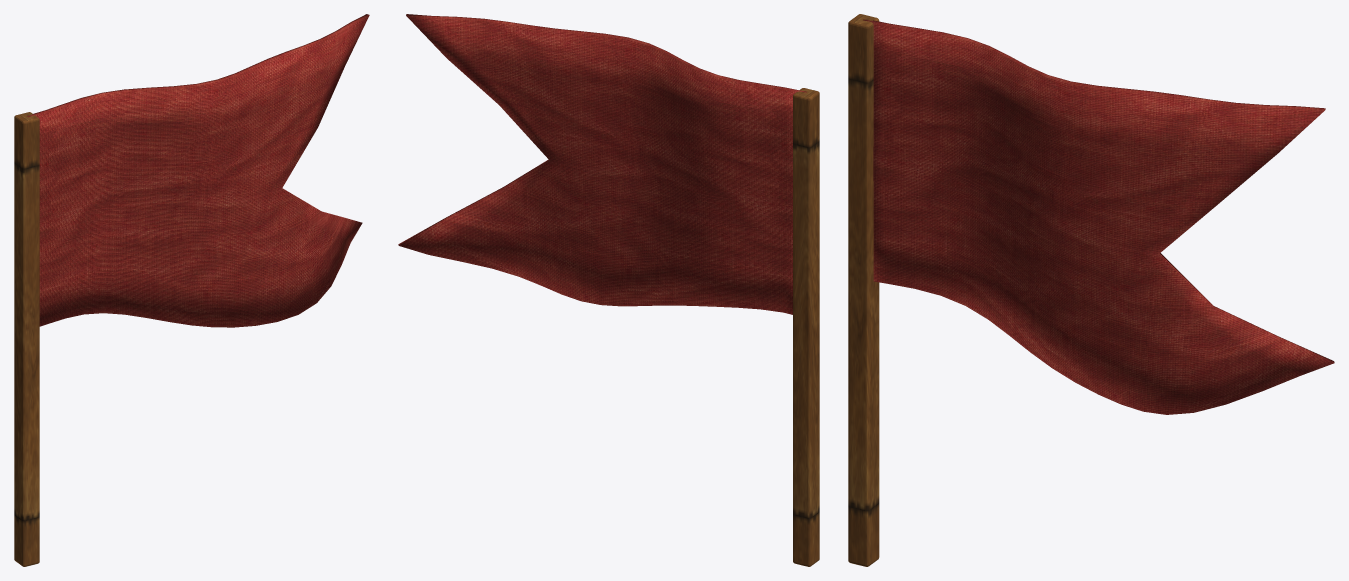
The picture shows the model from 3 angles, left to right: view 1: azimuth 30°, elevation 25°; view 2: azimuth 150°, elevation 25°; view 3: azimuth 330°, elevation 25°; orthographic projection. The views are drawn at different scales.
Visible parts, largest first — view 1: FlagCloth, FlagPole; view 2: FlagCloth, FlagPole; view 3: FlagCloth, FlagPole.
Part boxes in pixels (left/top/right/bottom): FlagCloth: left=27, top=14, right=369, bottom=327; FlagPole: left=14, top=112, right=39, bottom=566; FlagCloth: left=398, top=14, right=806, bottom=314; FlagPole: left=793, top=88, right=819, bottom=566; FlagCloth: left=863, top=19, right=1334, bottom=414; FlagPole: left=848, top=14, right=879, bottom=566.
Bounding box in the file's own units: 1.39 × 1.6 × 0.2523.
Materials: 2 (2 with a texture image).
